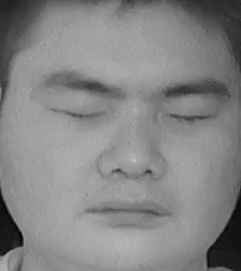blink: (163, 99, 222, 134), (49, 95, 109, 129)
mouth: (82, 186, 177, 237)
